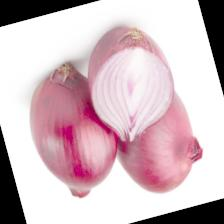onion: (15, 54, 130, 206), (74, 16, 186, 149), (101, 83, 210, 203)
